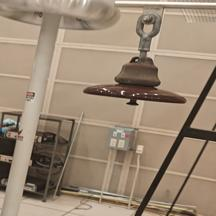insulator: (72, 52, 192, 112)
